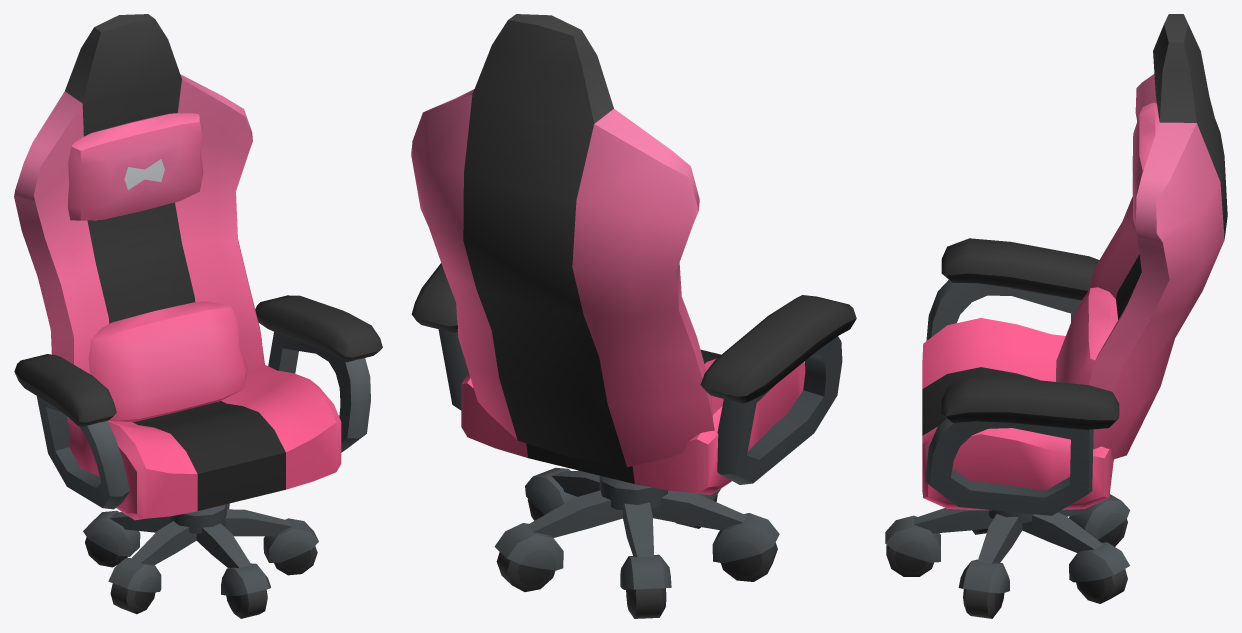
File: gamer_chair_B.gltf
3 views of the same model, side by side, from view 1: azimuth 30°, elevation 25°; view 2: azimuth 150°, elevation 25°; view 3: azimuth 270°, elevation 25° (orthographic). The views are drawn at different scales.
Visible parts, largest first — view 1: chair_top_B, gamer_chair_B; view 2: chair_top_B, gamer_chair_B; view 3: chair_top_B, gamer_chair_B.
Part boxes in pixels (x1,y1,x2,y2): chair_top_B: (14,14,382,520); gamer_chair_B: (83,503,318,618); chair_top_B: (411,14,856,494); gamer_chair_B: (494,467,779,618); chair_top_B: (922,14,1227,515); gamer_chair_B: (885,494,1129,618).
Bounding box in the file's own units: 1.1 × 1.73 × 0.9818.
1 material, 1 textured.
